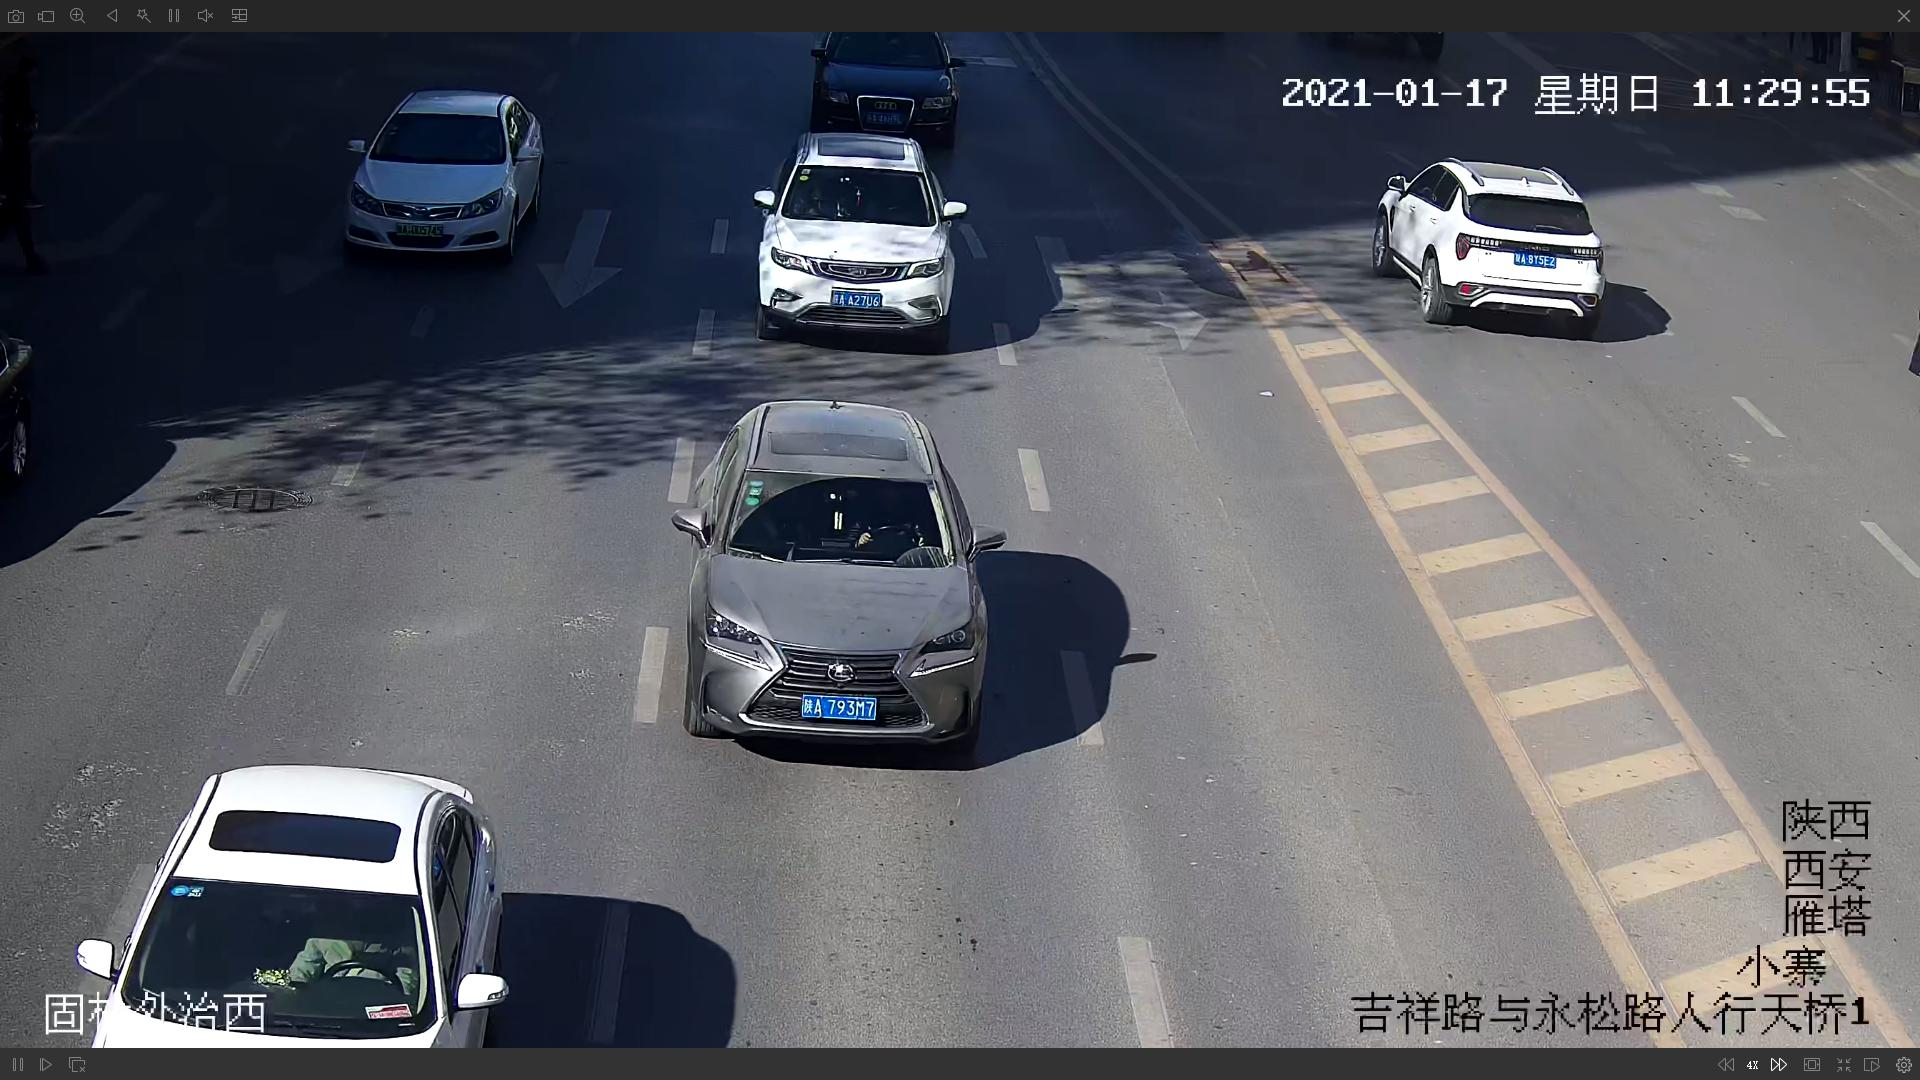silver-gray: (671, 405, 1000, 764)
white: (75, 761, 506, 1044), (749, 129, 967, 336), (334, 84, 539, 252)
